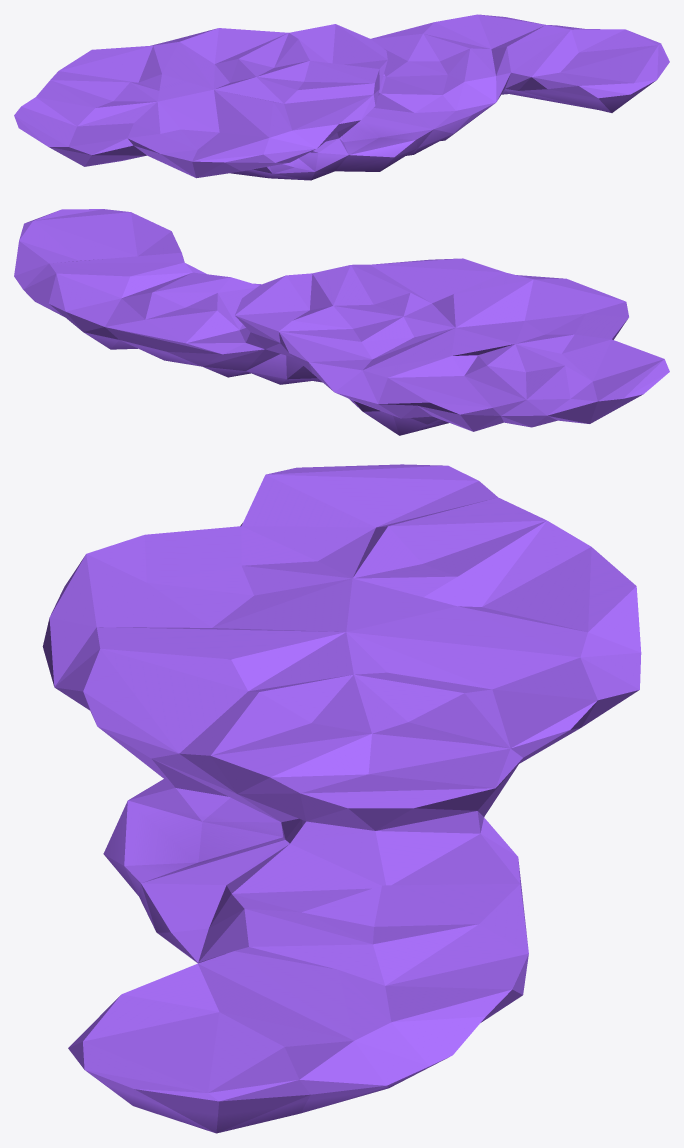
The model's file is SM_Coral_30.fbx.
3 views of the same model, one above another, from view 1: azimuth 30°, elevation 25°; view 2: azimuth 150°, elevation 25°; view 3: azimuth 270°, elevation 25° (orthographic). The views are drawn at different scales.
Parts seen in each view (by area): view 1: Coral_30; view 2: Coral_30; view 3: Coral_30.
Part boxes in pixels (x1=…): Coral_30: x1=14, y1=14, x2=669, y2=180; Coral_30: x1=14, y1=209, x2=669, y2=435; Coral_30: x1=42, y1=464, x2=641, y2=1133.
Size of the model in its own units: 734 by 102 by 319.
